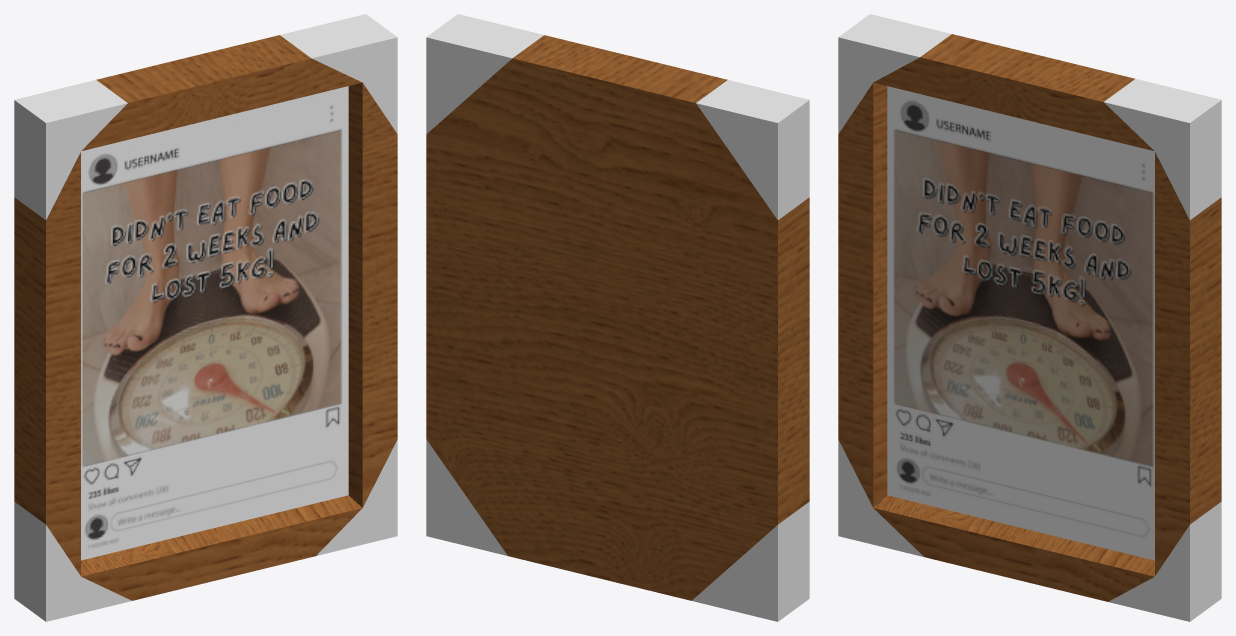
File: NegativeFrame1.fbx
3 renders of one model, left to right at view 1: azimuth 30°, elevation 25°; view 2: azimuth 150°, elevation 25°; view 3: azimuth 330°, elevation 25°, orthographic.
Parts seen in each view (by area): view 1: pCube211; view 2: pCube211; view 3: pCube211.
Part boxes in pixels (<box>): pCube211: <box>14,14,397,621</box>; pCube211: <box>426,14,809,621</box>; pCube211: <box>838,14,1221,621</box>.
Size of the model in its own units: 0.8624 by 1.17 by 0.1355.
